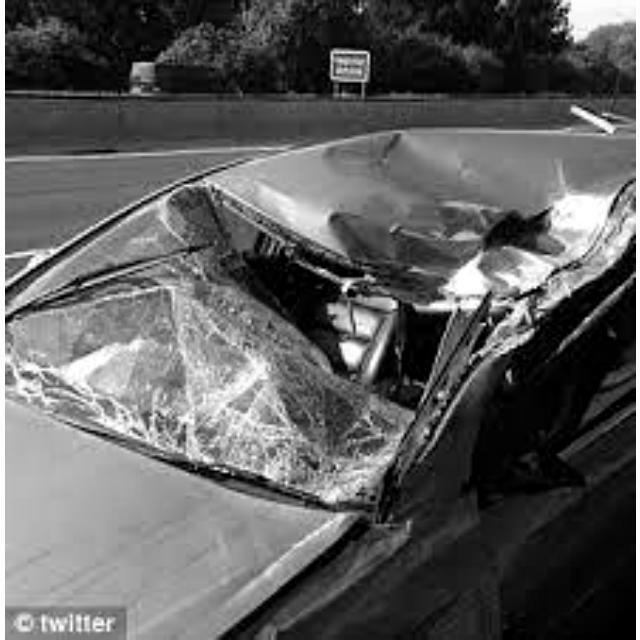Front-windscreen-damage: (4, 179, 428, 490)
roof-dent: (226, 125, 633, 314)
